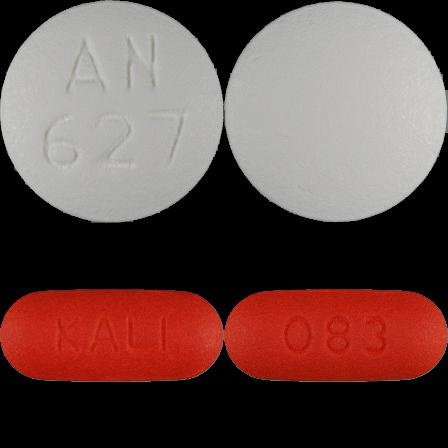35356-659: (0, 0, 224, 224)
